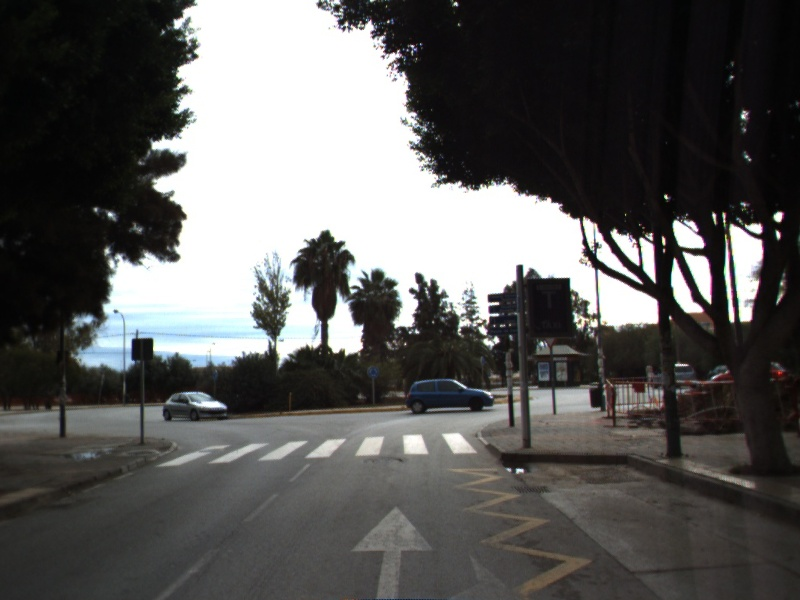STRAIGHT_RIGHT: (346, 502, 520, 600)
